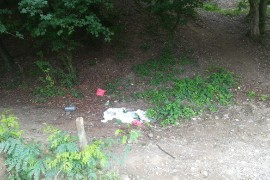trash: (63, 74, 154, 159)
